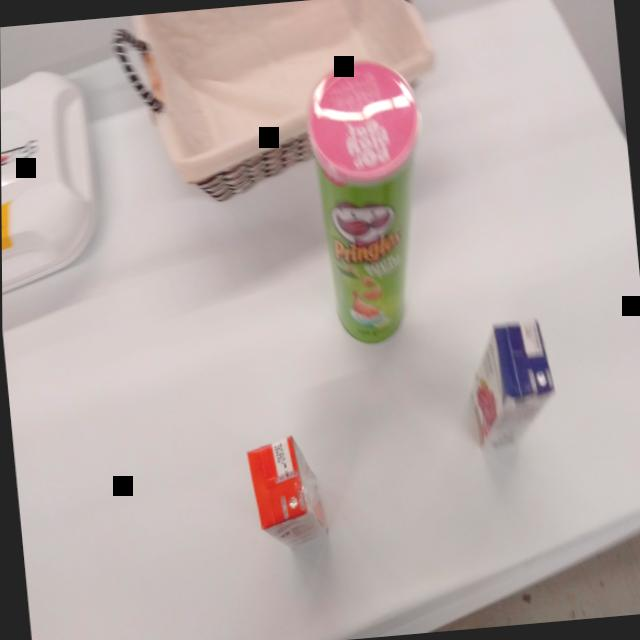grape_juice: (454, 311, 566, 460)
orange_juice: (241, 427, 333, 558)
pringles: (296, 50, 445, 353)
